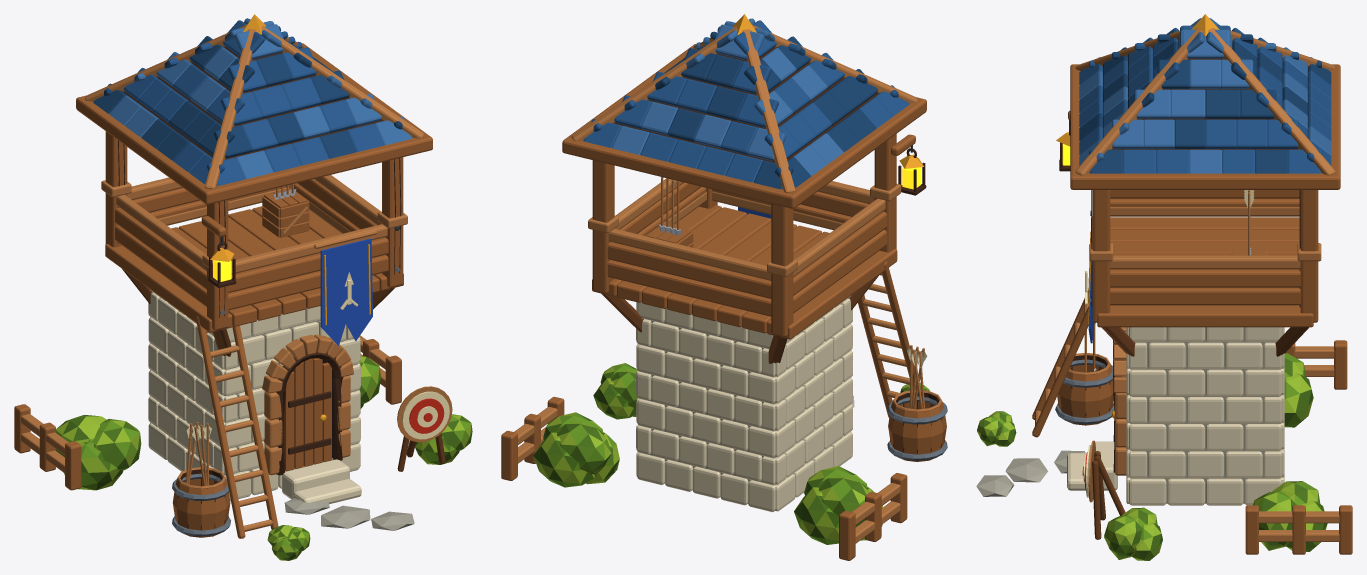
File: arrow_tower.glb
3 views of the same model, side by side, from view 1: azimuth 30°, elevation 25°; view 2: azimuth 150°, elevation 25°; view 3: azimuth 270°, elevation 25° (orthographic). The views are drawn at different scales.
Visible parts, largest first — view 1: Cloth heraldic banner, Roof eave beam, Roof eave beam.003, Upper lookout deck plank, Open barrel staves.001, Lookout upright.002, Lookout front parapet plank, Lookout front parapet plank.001, Ladder rail, Leaf cluster.004, Lookout railing.001, Lookout upright (+72 smaller); view 2: Roof eave beam.002, Lookout rear parapet plank.001, Lookout rear parapet plank, Lookout upright.001, Roof eave beam.003, Upper lookout deck plank, Lookout upright.003, Lookout railing.003, Open barrel staves.001, Leaf cluster.011, Lookout side parapet plank.002, Leaf cluster.009 (+113 smaller); view 3: Upper lookout deck plank.007, Roof eave beam.001, Lookout side parapet plank.003, Lookout side parapet plank.001, Lookout railing.007, Upper lookout deck plank, Upper lookout deck plank.001, Upper lookout deck plank.002, Open barrel staves.001, Lookout upright.003, Lookout upright.002, Lookout railing.004 (+84 smaller).
Part boxes in pixels (left/top/right/bottom): Cloth heraldic banner: left=320, top=238, right=372, bottom=345; Roof eave beam: left=204, top=134, right=432, bottom=204; Roof eave beam.003: left=76, top=100, right=215, bottom=203; Upper lookout deck plank: left=105, top=244, right=232, bottom=332; Open barrel staves.001: left=172, top=476, right=230, bottom=537; Lookout upright.002: left=382, top=157, right=403, bottom=287; Lookout front parapet plank: left=228, top=255, right=388, bottom=310; Lookout front parapet plank.001: left=228, top=237, right=388, bottom=292; Ladder rail: left=195, top=316, right=245, bottom=538; Leaf cluster.004: left=91, top=418, right=141, bottom=470; Lookout railing.001: left=231, top=224, right=387, bottom=274; Lookout upright: left=207, top=200, right=228, bottom=330; Roof eave beam.002: left=562, top=140, right=799, bottom=208; Lookout rear parapet plank.001: left=607, top=242, right=771, bottom=298; Lookout rear parapet plank: left=607, top=260, right=771, bottom=316; Lookout upright.001: left=771, top=204, right=793, bottom=337; Roof eave beam.003: left=783, top=97, right=926, bottom=208; Upper lookout deck plank: left=767, top=249, right=897, bottom=339; Lookout upright.003: left=592, top=160, right=614, bottom=293; Lookout railing.003: left=608, top=228, right=771, bottom=280; Open barrel staves.001: left=888, top=398, right=946, bottom=461; Leaf cluster.011: left=556, top=422, right=611, bottom=475; Lookout side parapet plank.002: left=793, top=211, right=887, bottom=295; Leaf cluster.009: left=533, top=432, right=594, bottom=487; Upper lookout deck plank.007: left=1097, top=305, right=1313, bottom=327; Roof eave beam.001: left=1071, top=172, right=1340, bottom=189; Lookout side parapet plank.003: left=1110, top=269, right=1300, bottom=287; Lookout side parapet plank.001: left=1110, top=287, right=1300, bottom=305; Lookout railing.007: left=1110, top=255, right=1300, bottom=269; Upper lookout deck plank: left=1110, top=217, right=1299, bottom=229; Upper lookout deck plank.001: left=1110, top=229, right=1299, bottom=241; Upper lookout deck plank.002: left=1110, top=242, right=1299, bottom=254; Open barrel staves.001: left=1057, top=362, right=1113, bottom=425; Lookout upright.003: left=1300, top=190, right=1318, bottom=322; Lookout upright.002: left=1092, top=190, right=1110, bottom=322; Lookout railing.004: left=1110, top=207, right=1299, bottom=216.
Size of the model in its own units: 3.99 by 5.04 by 3.62.
